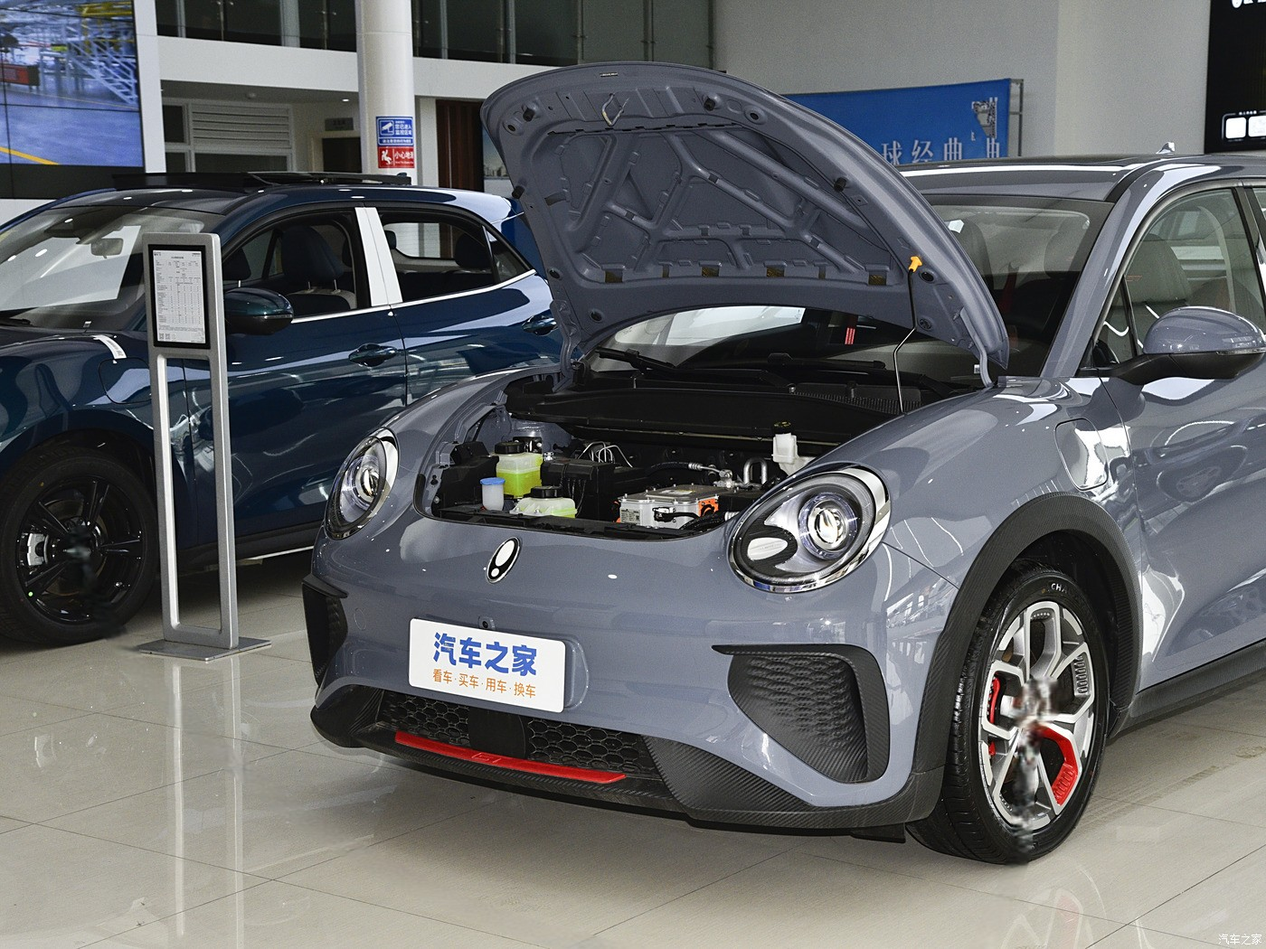ORA: (487, 537, 520, 583)
